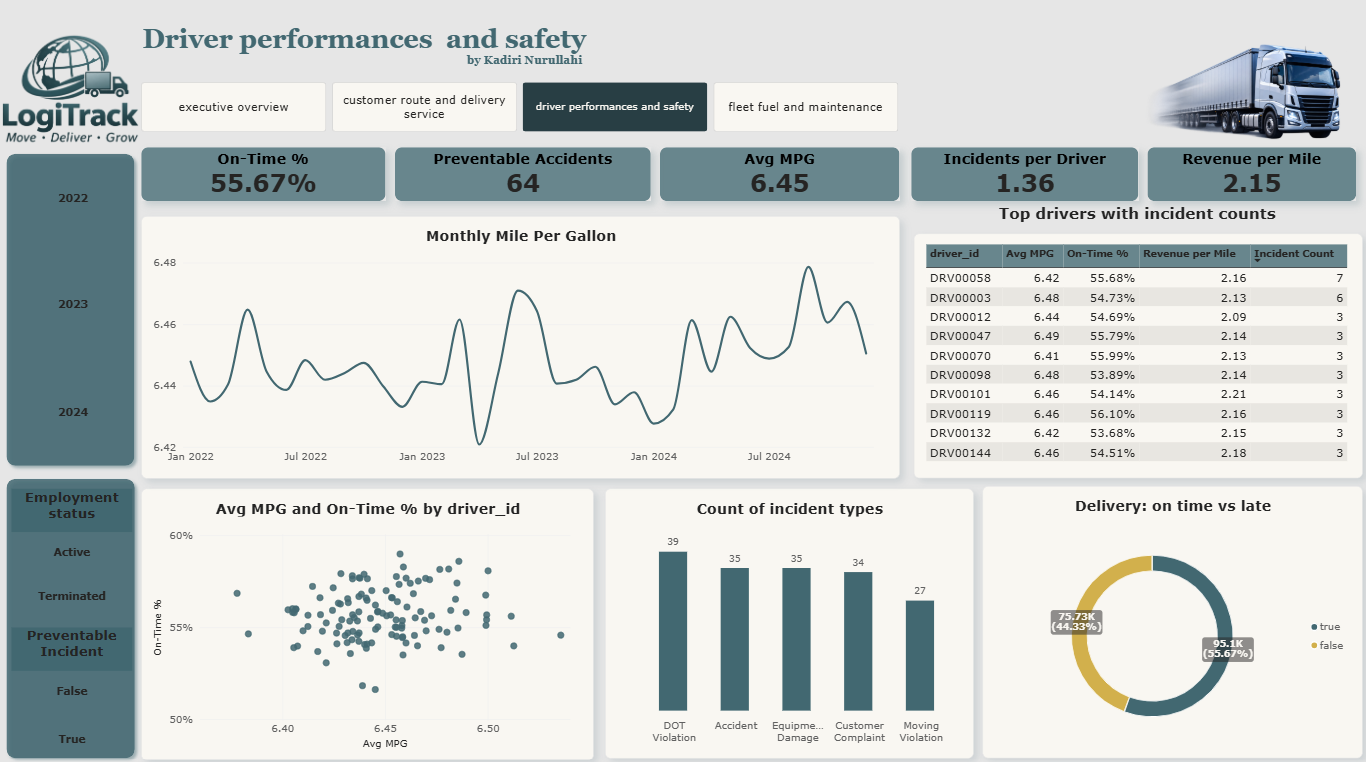

The dashboard page shown, as its layout file describes it:
{"tool":"powerbi","page":{"name":"driver performances and safety ","canvas":[1920,1080],"ordinal":2},"visuals":[{"type":"shape","box":[0,671.5,197.1,408.1],"z":0},{"type":"advancedSlicerVisual","title":"Employment status","fields":{"Values":["drivers.employment_status"]},"box":[15.7,694.2,169.2,177.9],"z":1000},{"type":"shape","box":[0,217.9,196.4,453.6],"z":2000},{"type":"advancedSlicerVisual","fields":{"Values":["Date.Year"]},"box":[17.9,217.9,169.6,441.1],"z":3000},{"type":"cardVisual","fields":{"Data":["trips.Avg MPG"]},"box":[920.9,218,334.9,75],"z":4000},{"type":"cardVisual","fields":{"Data":["trips.Incidents per Driver"]},"box":[1271.5,218,317.4,75],"z":5000},{"type":"cardVisual","fields":{"Data":["trips.Revenue per Mile"]},"box":[1601.2,218,291.3,75],"z":6000},{"type":"advancedSlicerVisual","title":"Preventable Incident","fields":{"Label":["loads.Incident Count"],"Values":["safety_incidents.preventable_flag"]},"box":[15.7,887.8,169.2,186.6],"z":7000},{"type":"cardVisual","fields":{"Data":["loads.On-Time %"]},"box":[197.1,218,341.9,75],"z":8000},{"type":"cardVisual","fields":{"Data":["trips.Preventable Accidents"]},"box":[551.2,218,357.6,75],"z":9000},{"type":"tableEx","fields":{"Values":["drivers.driver_id","trips.Avg MPG","loads.On-Time %","trips.Revenue per Mile","loads.Incident Count"]},"box":[1275,338.4,626.2,341.9],"z":10000},{"type":"columnChart","title":"Count of incident types","fields":{"Category":["safety_incidents.incident_type"],"Y":["loads.Incident Count"]},"box":[844.2,694.2,514.5,376.7],"z":11000},{"type":"scatterChart","fields":{"Category":["drivers.driver_id"],"X":["trips.Avg MPG"],"Y":["loads.On-Time %"]},"box":[197.1,694.2,631.4,380.2],"z":12000},{"type":"lineChart","title":"Monthly Mile Per Gallon","fields":{"Category":["driver_monthly_metrics.month"],"Y":["driver_monthly_metrics.Monthly MPG"]},"box":[197.1,314,1058.7,366.3],"z":13000},{"type":"donutChart","title":"Delivery: on time vs late","fields":{"Category":["delivery_events.on_time_flag"],"Y":["CountNonNull(delivery_events.load_id)"]},"box":[1370.6,691.4,530.2,380.2],"z":14000},{"type":"textbox","box":[1394.3,297.2,392.4,41.9],"z":15000},{"type":"pageNavigator","box":[197.1,127.3,1058.7,69.8],"z":16000},{"type":"textbox","box":[198.2,44.6,629.7,71.5],"z":17000},{"type":"image","box":[0,55.4,196.4,162.5],"z":18000},{"type":"image","box":[1566.1,67.9,335,150],"z":19000}]}

Visuals, with their boxes in screenshot pixels (x1, y1, x2, y2), scaled from the page's 1920x1080 canvas onto the 1366x762 screenshot:
shape: (x1=0, y1=474, x2=140, y2=761)
"Employment status" advancedSlicerVisual: (x1=11, y1=490, x2=132, y2=615)
shape: (x1=0, y1=154, x2=140, y2=474)
advancedSlicerVisual - Date.Year: (x1=13, y1=154, x2=133, y2=465)
cardVisual - trips.Avg MPG: (x1=655, y1=154, x2=893, y2=207)
cardVisual - trips.Incidents per Driver: (x1=905, y1=154, x2=1130, y2=207)
cardVisual - trips.Revenue per Mile: (x1=1139, y1=154, x2=1346, y2=207)
"Preventable Incident" advancedSlicerVisual: (x1=11, y1=626, x2=132, y2=758)
cardVisual - loads.On-Time %: (x1=140, y1=154, x2=383, y2=207)
cardVisual - trips.Preventable Accidents: (x1=392, y1=154, x2=647, y2=207)
tableEx - drivers.driver_id x trips.Avg MPG: (x1=907, y1=239, x2=1353, y2=480)
"Count of incident types" columnChart: (x1=601, y1=490, x2=967, y2=756)
scatterChart - drivers.driver_id x trips.Avg MPG: (x1=140, y1=490, x2=589, y2=758)
"Monthly Mile Per Gallon" lineChart: (x1=140, y1=222, x2=893, y2=480)
"Delivery: on time vs late" donutChart: (x1=975, y1=488, x2=1352, y2=756)
textbox: (x1=992, y1=210, x2=1271, y2=239)
pageNavigator: (x1=140, y1=90, x2=893, y2=139)
textbox: (x1=141, y1=31, x2=589, y2=82)
image: (x1=0, y1=39, x2=140, y2=154)
image: (x1=1114, y1=48, x2=1353, y2=154)
